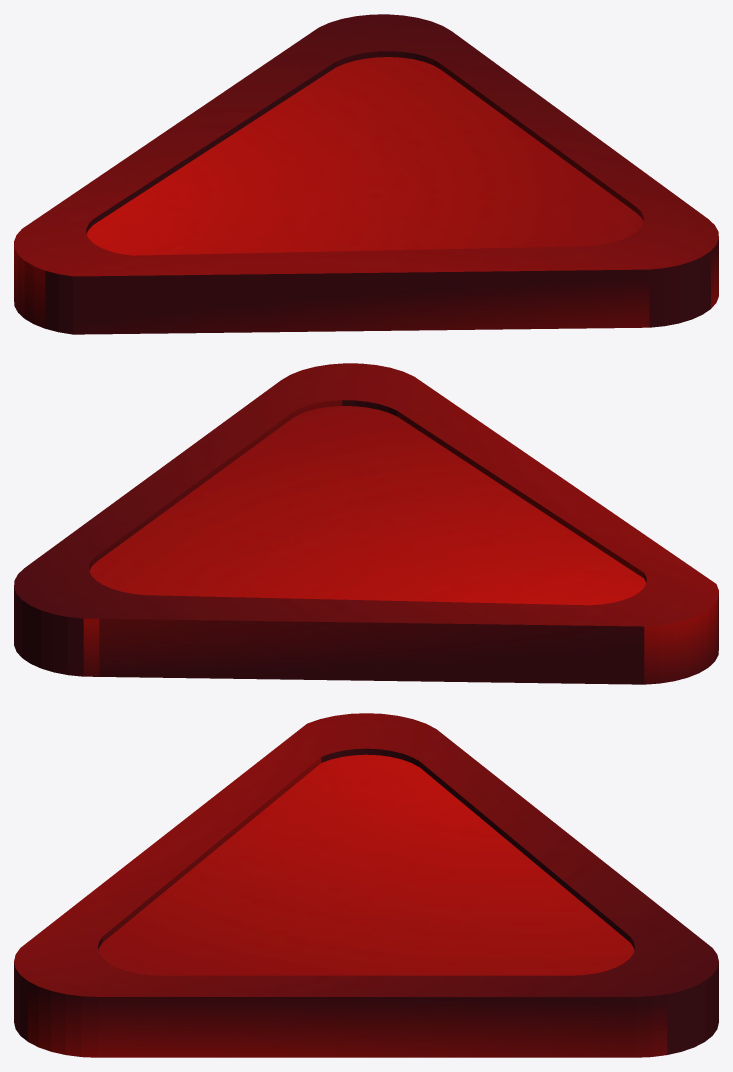
File: triangle_puck.obj
3 views of the same model, one above another, from view 1: azimuth 30°, elevation 25°; view 2: azimuth 150°, elevation 25°; view 3: azimuth 270°, elevation 25° (orthographic). The views are drawn at different scales.
Visible parts, largest first — view 1: Cube; view 2: Cube; view 3: Cube.
Part boxes in pixels (<box>): Cube: <box>14,14,718,334</box>; Cube: <box>14,363,718,684</box>; Cube: <box>14,713,718,1057</box>.
Size of the model in its own units: 1 by 0.1 by 1.05.
1 material, 1 textured.
